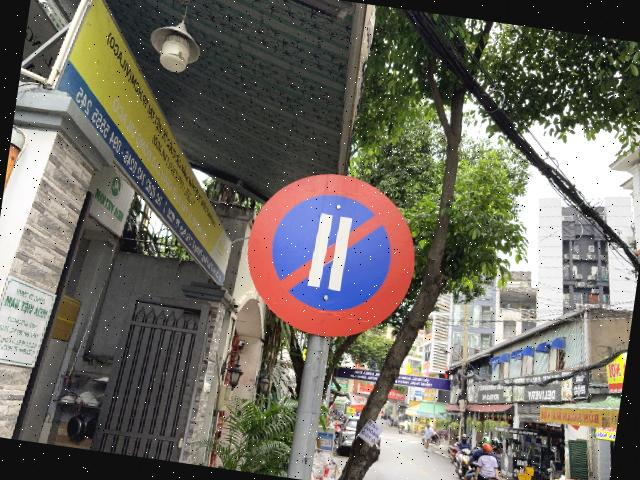cam-do-xe-ngay-chan: (235, 162, 426, 348)
